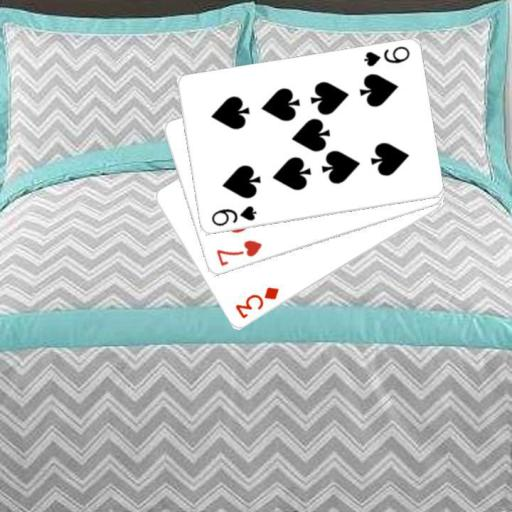3D: (232, 284, 281, 321)
7H: (213, 237, 264, 268)
9S: (361, 43, 411, 69), (208, 203, 258, 228)
